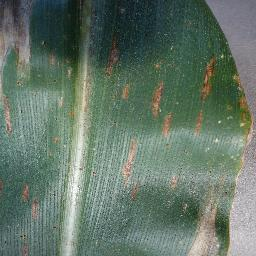Gray_Leaf_Spot: (0, 0, 36, 86), (183, 209, 241, 256), (195, 53, 220, 135), (119, 133, 141, 200), (233, 72, 254, 140), (198, 178, 236, 208), (71, 78, 94, 119), (20, 180, 43, 217), (103, 34, 120, 78), (229, 141, 248, 177), (0, 88, 14, 136), (150, 78, 164, 119), (78, 0, 94, 34), (162, 110, 175, 137), (63, 53, 76, 78), (167, 169, 180, 191), (17, 235, 29, 256), (46, 46, 57, 67), (119, 81, 131, 100), (54, 93, 67, 109), (0, 171, 6, 204), (150, 60, 166, 71), (52, 133, 62, 149), (117, 7, 132, 17)
